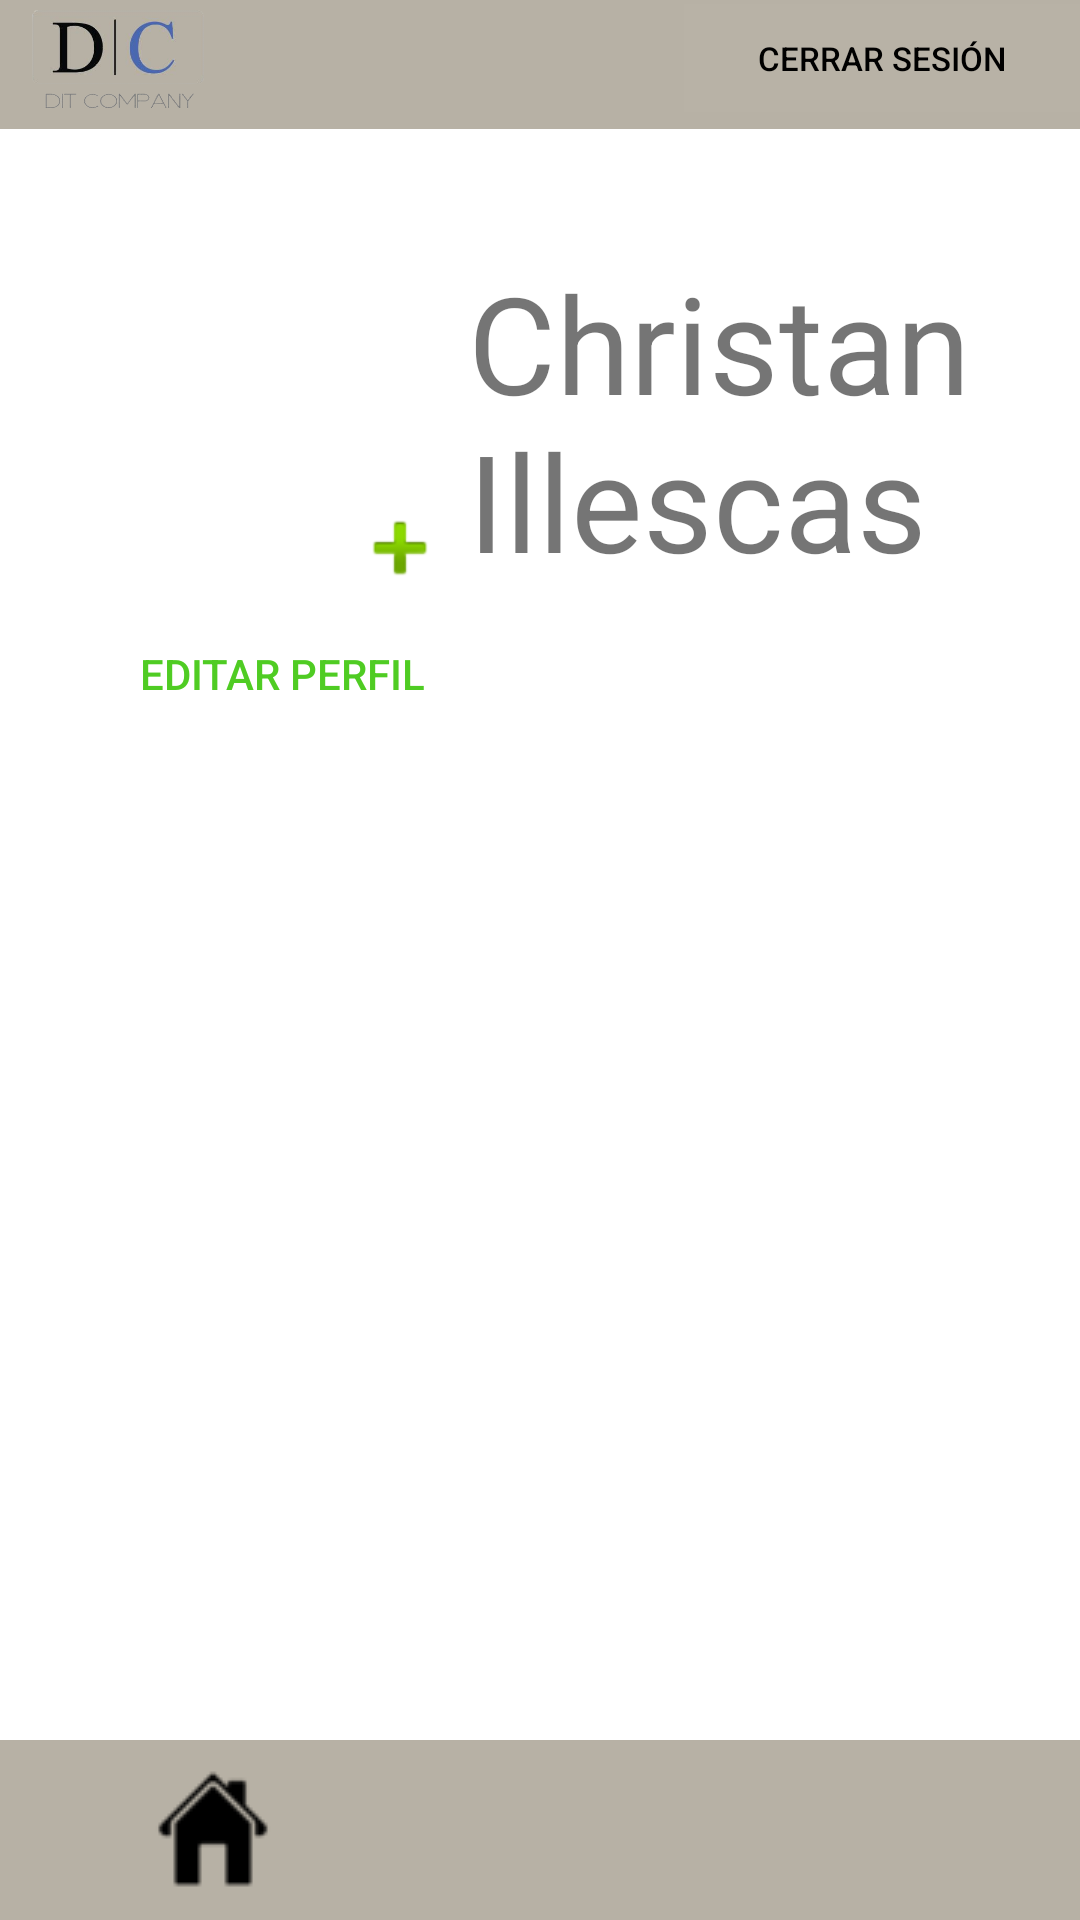

Screen size 1080px x 1920px. Icon name, then its center in pixels as point (x, y):
add: point (400, 548)
iconfinder contat us 33home: point (213, 1829)
